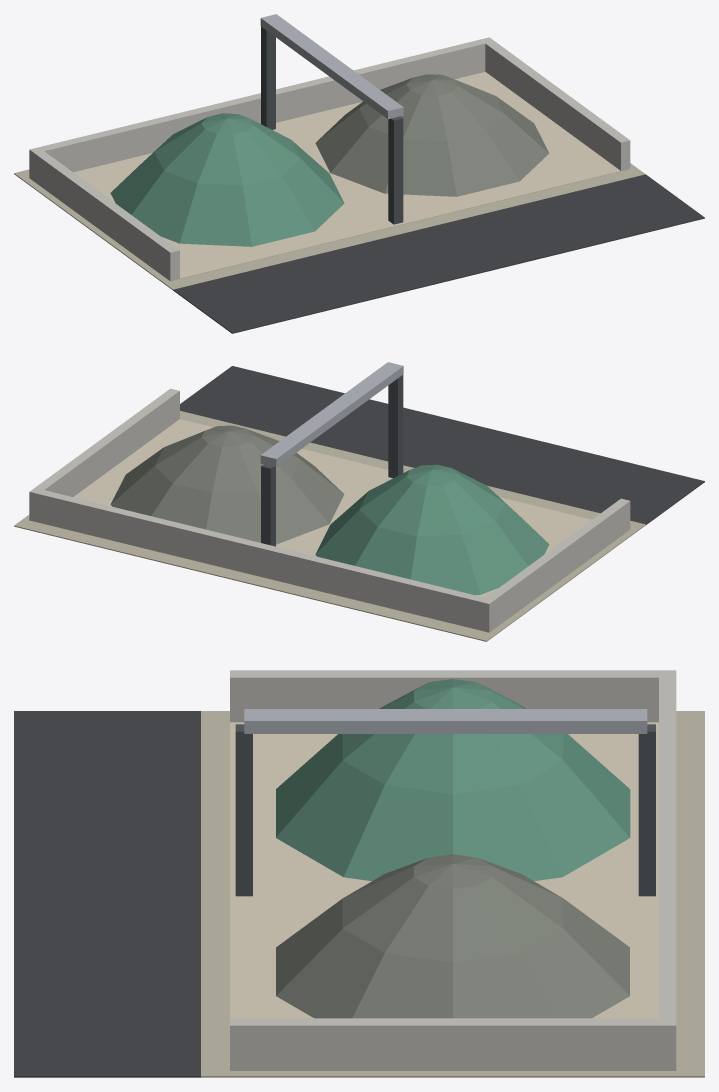
The model's file is site_heap_cu.glb.
3 views of the same model, one above another, from view 1: azimuth 30°, elevation 25°; view 2: azimuth 150°, elevation 25°; view 3: azimuth 270°, elevation 25° (orthographic). The views are drawn at different scales.
Visible parts, largest first — view 1: site_heap_cu; view 2: site_heap_cu; view 3: site_heap_cu.
Part boxes in pixels (x1=…): site_heap_cu: x1=14, y1=14, x2=704, y2=333; site_heap_cu: x1=14, y1=362, x2=704, y2=641; site_heap_cu: x1=14, y1=670, x2=704, y2=1077.
Bounding box in the file's own units: 30 × 6.9 × 24.
